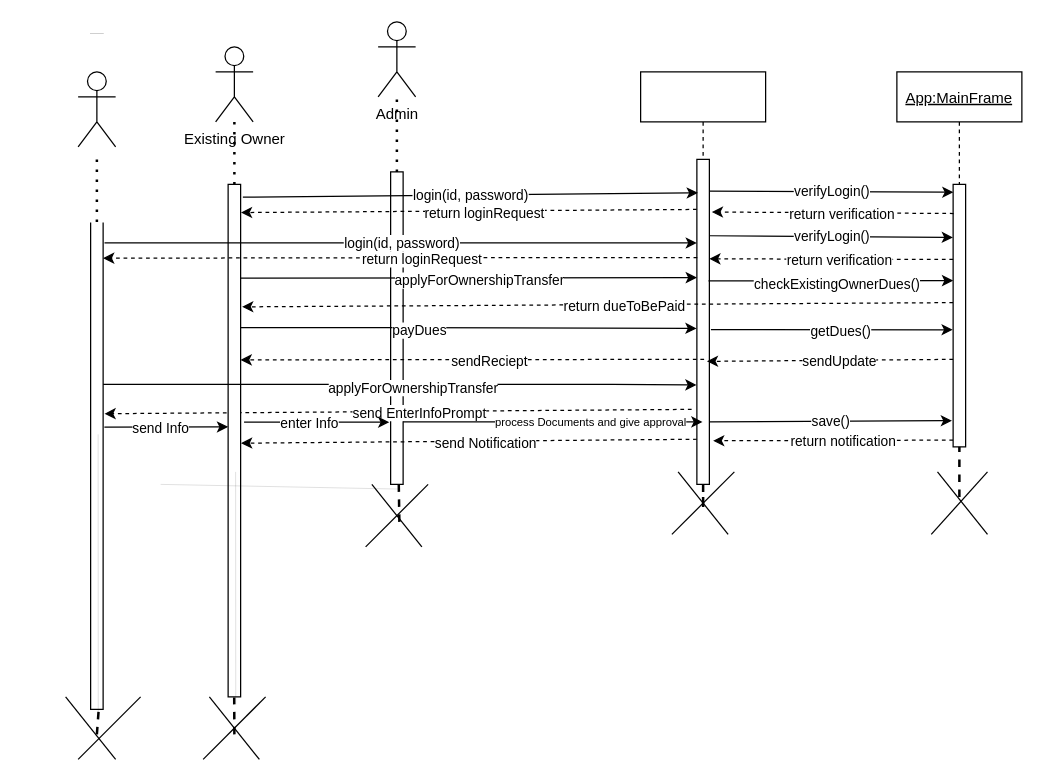
Some shapes in this 1044 by 783 pixel diagram are drawn without their labels. The centre of each missing label's shape, as x and y in pixels:
"App::Server" belongs at [702,277].
"New Owner" belongs at [96,109].
